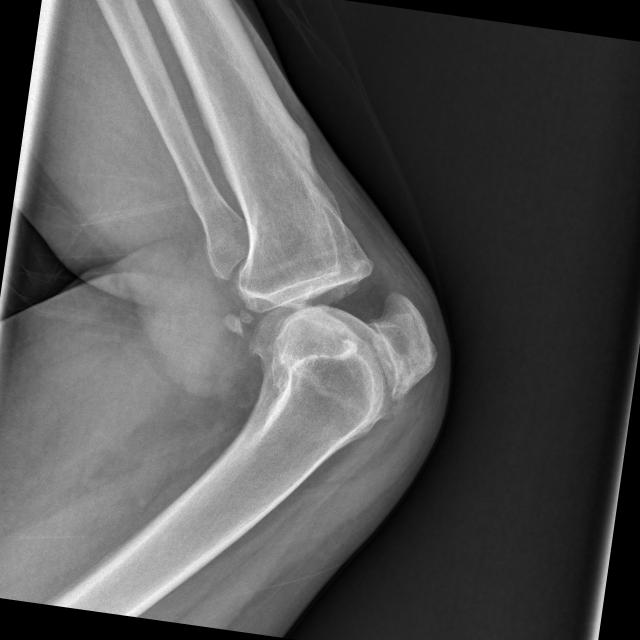Knee: (219, 215, 454, 422)
